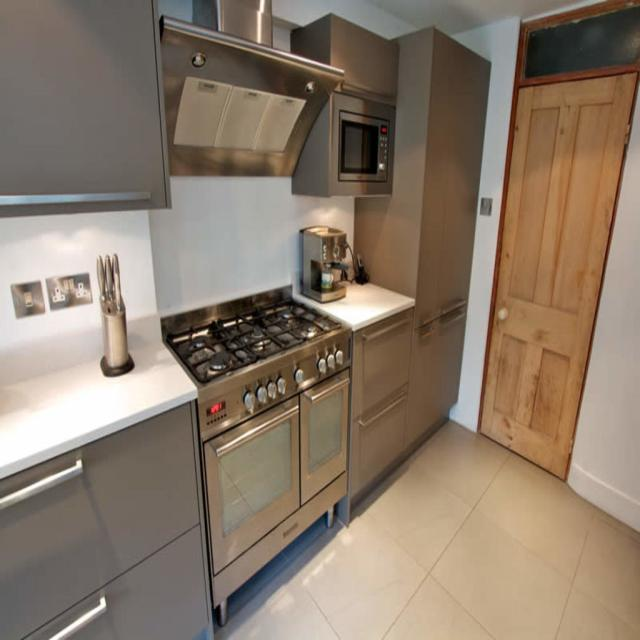Coffee-Machine: (280, 220, 364, 316)
